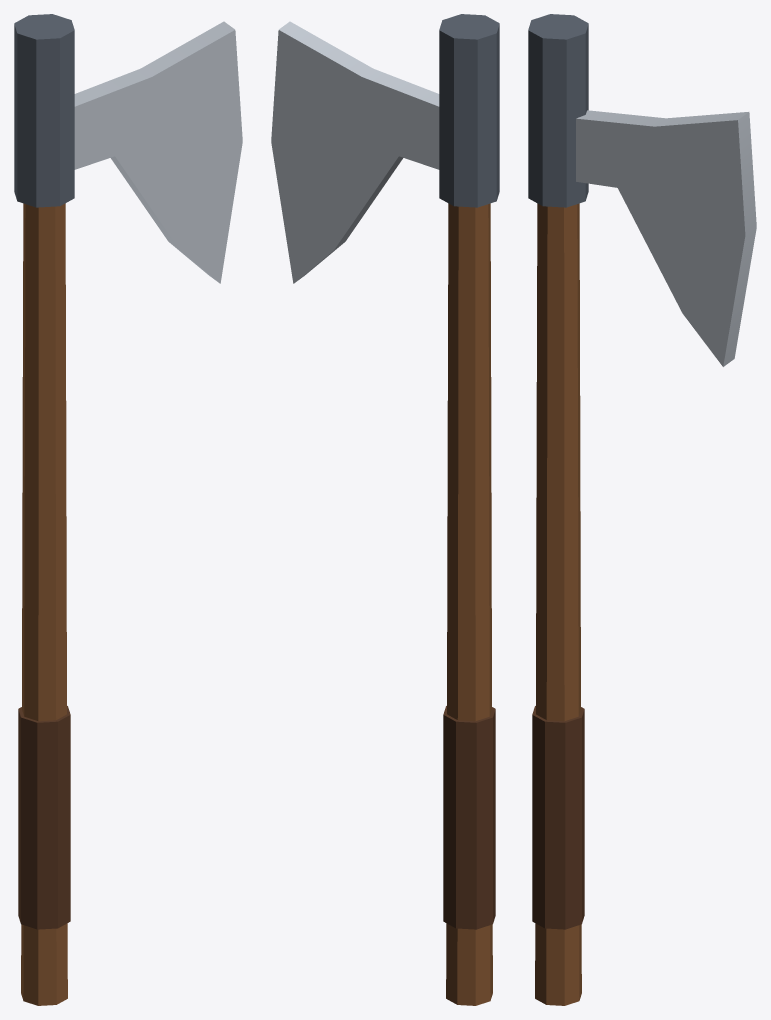
The model's file is Axe.fbx.
3 renders of one model, left to right at view 1: azimuth 30°, elevation 25°; view 2: azimuth 150°, elevation 25°; view 3: azimuth 330°, elevation 25°, orthographic.
Visible parts, largest first — view 1: Axe; view 2: Axe; view 3: Axe.
Part boxes in pixels (bbox=[...]): Axe: bbox=[14, 14, 242, 1005]; Axe: bbox=[271, 14, 499, 1005]; Axe: bbox=[528, 14, 756, 1005].
Bounding box in the file's own units: 0.178 × 0.75 × 0.044.
